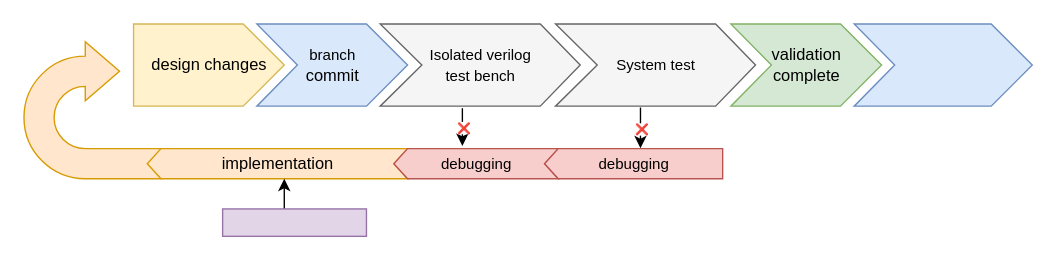
This 1056x260 diagram has some shape labels left out. The shapes that lost their labels are listed below. From the top down, each one's centre as x and y in pixels, then its label:
At [942,64]: "master deploy".
At [293,222]: "New functional unit".
